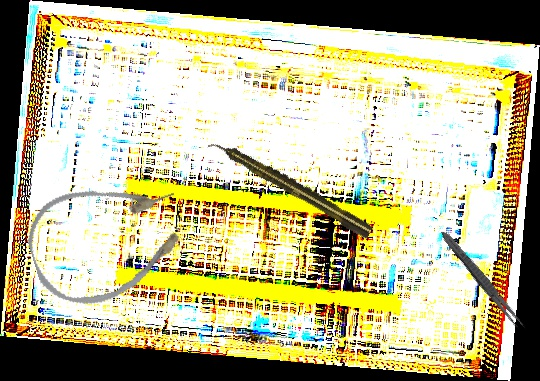Cannula: (17, 163, 199, 319)
Dressing Forceps: (436, 227, 530, 334)
Handpiece: (206, 133, 375, 241)
